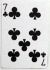seven: (1, 1, 49, 69)
